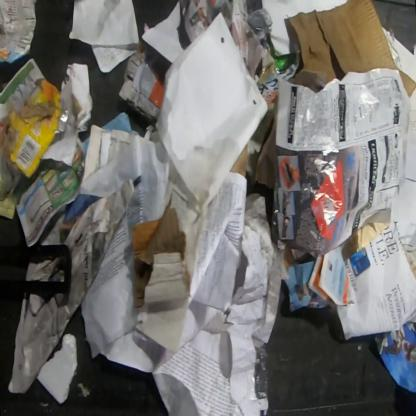cardboard: (284, 0, 415, 101), (130, 198, 191, 356), (8, 78, 70, 180), (117, 39, 172, 125), (0, 0, 38, 66), (251, 116, 277, 192), (59, 192, 103, 233), (286, 69, 326, 94), (228, 144, 247, 177), (271, 51, 297, 75), (280, 241, 298, 270)
metal: (0, 242, 73, 297)
soft_plastic: (244, 249, 284, 402), (244, 7, 273, 51)
